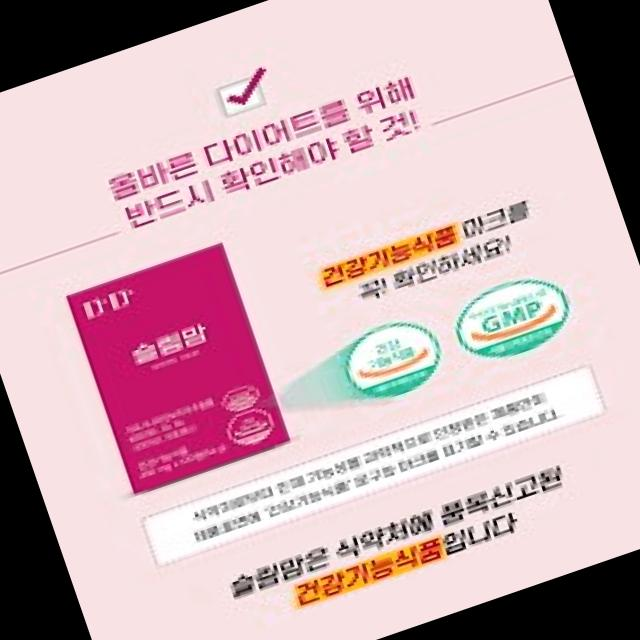GMP: (441, 262, 581, 372)
HEALTHY: (336, 310, 453, 407)
